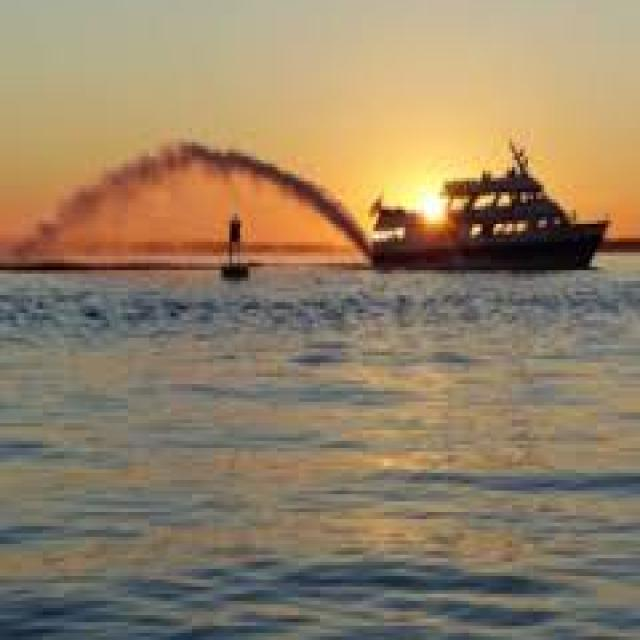houseboat: (366, 136, 602, 274)
